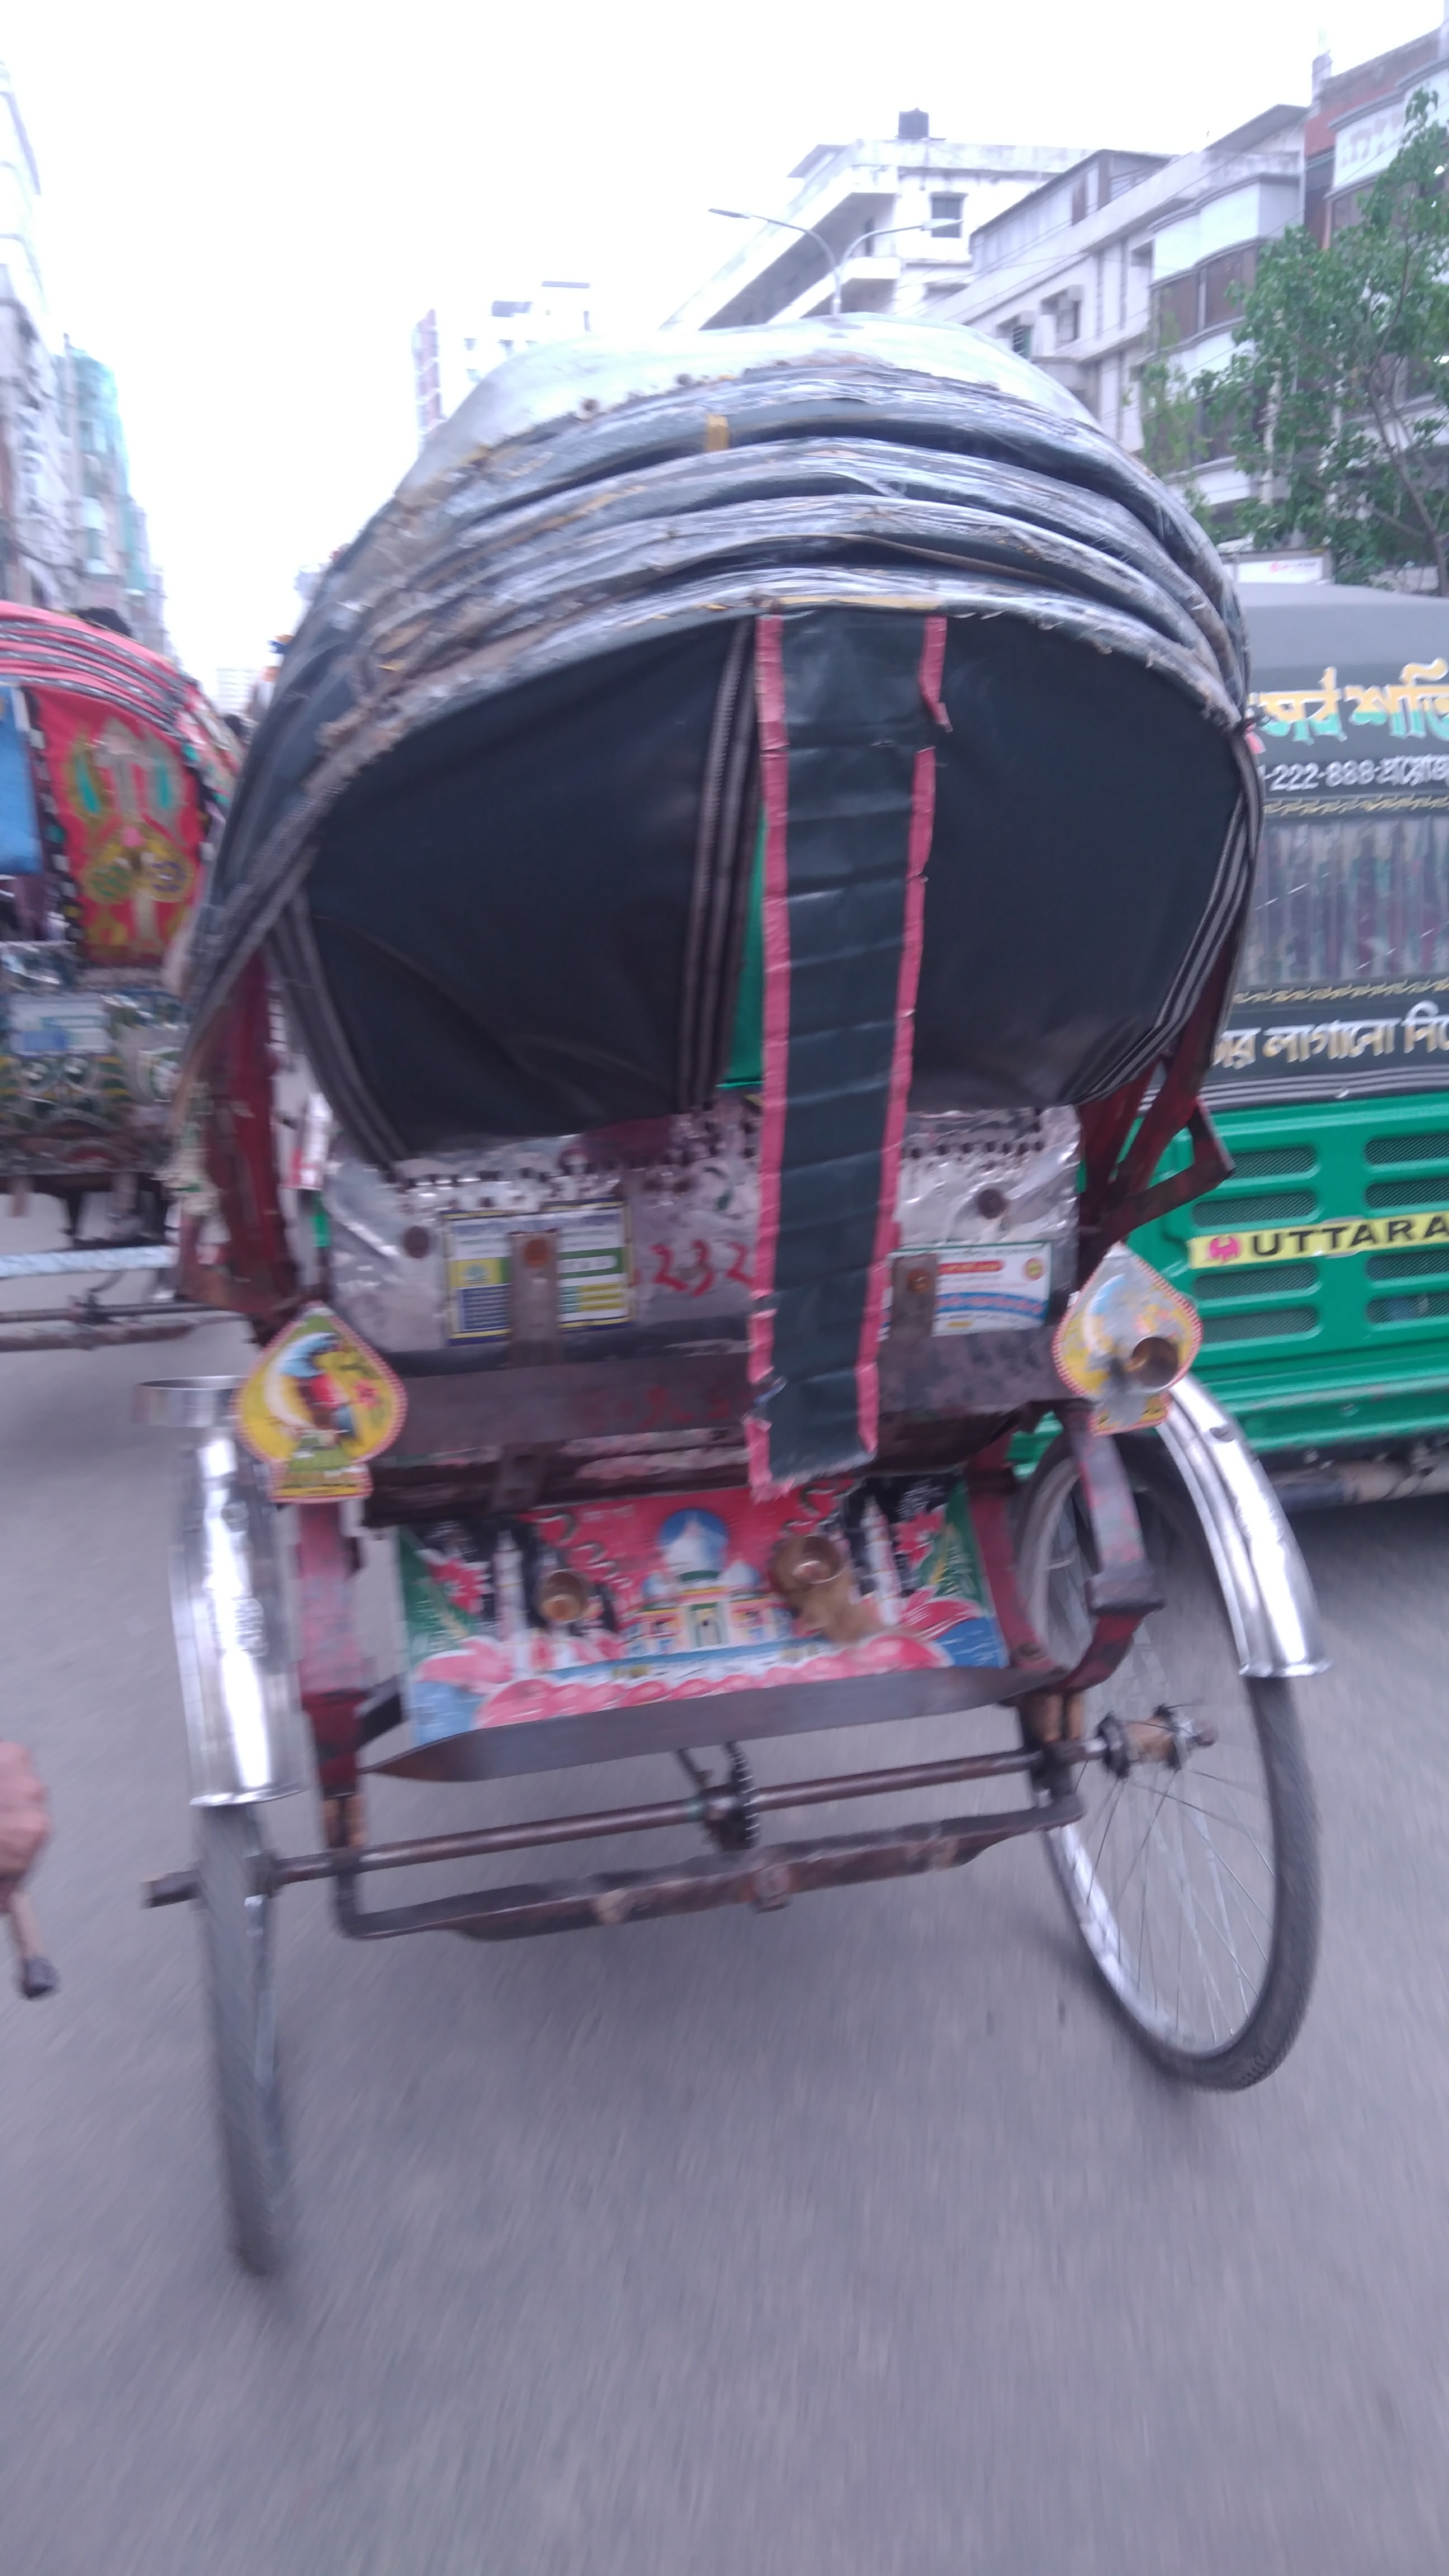Rickshaw: (180, 345, 1332, 2174), (5, 554, 303, 1353)
